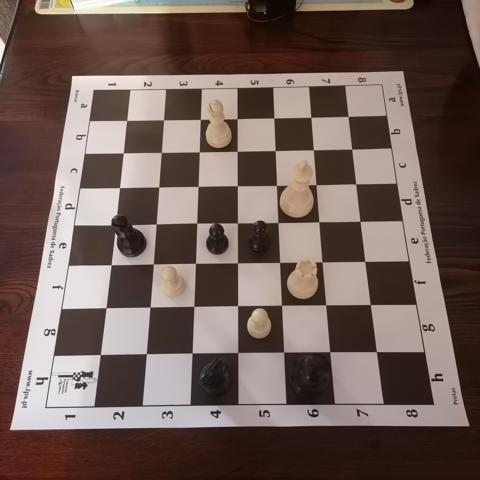xcorner: (342, 107, 358, 124), (156, 110, 172, 127), (192, 142, 208, 159), (115, 144, 132, 160), (191, 177, 207, 194), (231, 214, 247, 231), (148, 216, 165, 232), (188, 255, 204, 272), (145, 256, 162, 272), (320, 297, 336, 314), (305, 108, 321, 124), (267, 109, 283, 125), (230, 109, 246, 125), (193, 110, 209, 126), (119, 111, 135, 127), (346, 140, 362, 156), (307, 141, 323, 157), (269, 141, 285, 157), (230, 142, 246, 158), (154, 143, 170, 159), (350, 175, 366, 191), (310, 176, 326, 192), (270, 176, 286, 192), (231, 177, 247, 193), (151, 178, 167, 194), (112, 179, 128, 195), (355, 213, 371, 229), (313, 213, 329, 229), (272, 214, 288, 230), (190, 215, 206, 231), (107, 216, 123, 232), (360, 253, 376, 269), (317, 254, 333, 270), (274, 254, 290, 270), (231, 255, 247, 271), (103, 257, 119, 273), (365, 297, 381, 313), (276, 298, 292, 314), (231, 299, 247, 315), (187, 299, 203, 315), (142, 300, 158, 316), (98, 300, 114, 316), (371, 344, 387, 360), (324, 345, 340, 361), (278, 345, 294, 361), (231, 346, 247, 362), (185, 346, 201, 362), (139, 347, 155, 363), (93, 347, 109, 363)
